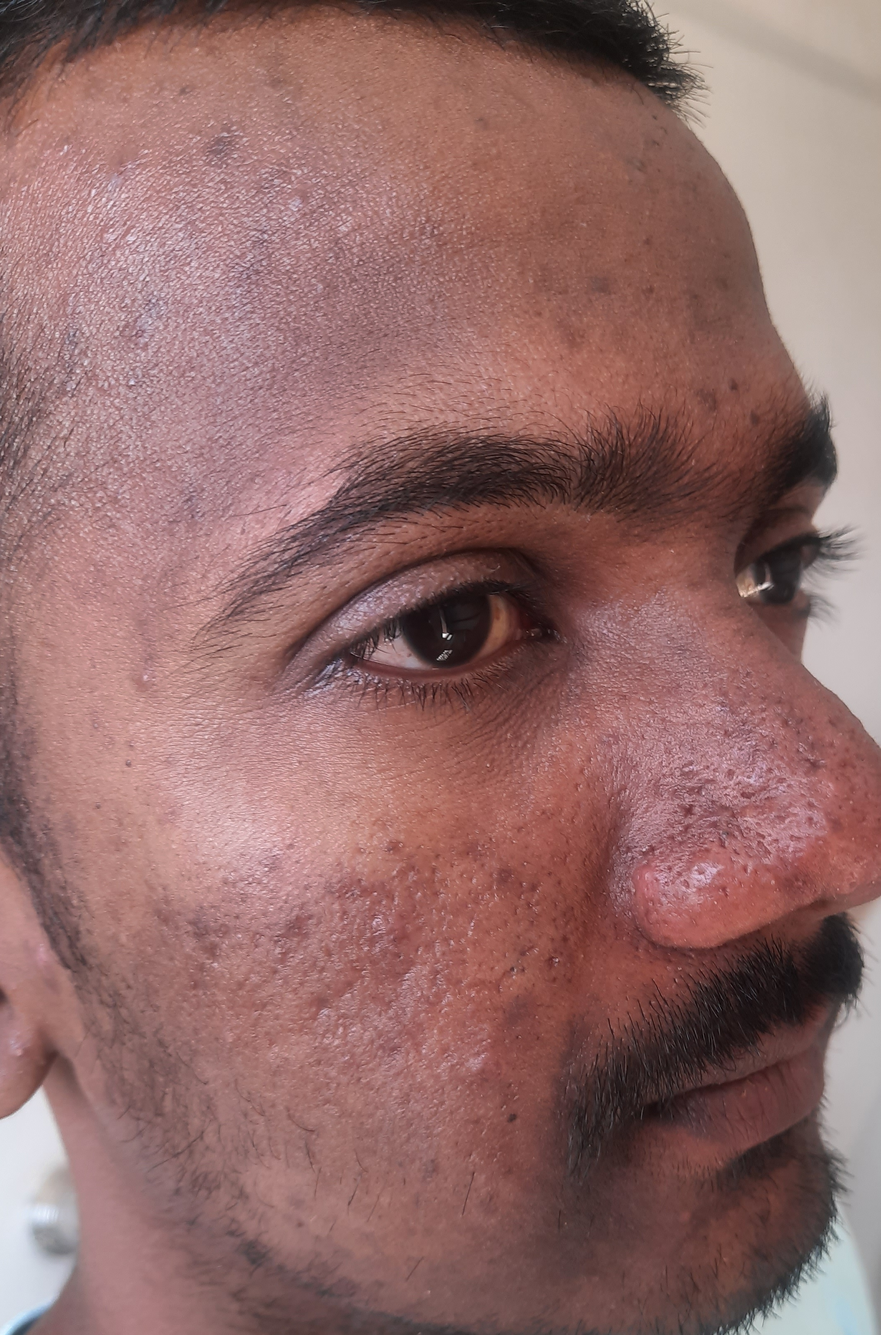papule: (570, 255, 652, 321), (194, 101, 251, 189), (443, 1035, 511, 1099), (350, 899, 421, 949), (271, 180, 341, 227), (758, 844, 815, 901)
